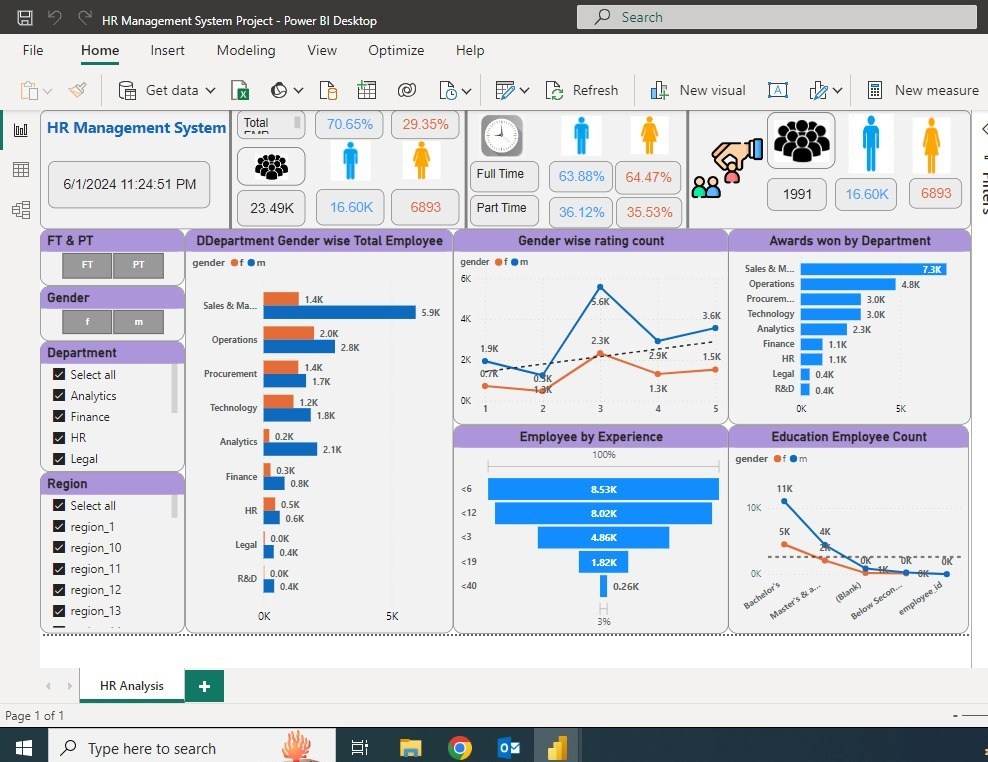

This screenshot's page, from the dashboard's own definition file:
{"tool":"powerbi","page":{"name":"HR Analysis","canvas":[1280,720],"ordinal":0},"visuals":[{"type":"textbox","box":[0,0,1280,163.6],"z":0},{"type":"card","fields":{"Values":["HR Analysis.Cur_DT"]},"box":[11,70.1,222.7,64.6],"z":1000},{"type":"shape","box":[253,0,17.9,163.6],"z":2000},{"type":"textbox","box":[270.7,0,93.6,40.3],"z":3000},{"type":"image","box":[270.7,50.4,93.6,53.3],"z":4000},{"type":"card","fields":{"Values":["CountNonNull(HR Analysis.EMP_ID)"]},"box":[270.7,109.4,93.6,50.4],"z":5000},{"type":"card","fields":{"Values":["HR Analysis.Male %"]},"box":[378.7,0,93.6,40.3],"z":6000},{"type":"card","fields":{"Values":["HR Analysis.Female %"]},"box":[482.4,0,93.6,40.3],"z":7000},{"type":"image","box":[390.2,37.4,72,64.8],"z":8000},{"type":"image","box":[493.9,37.4,61.9,64.8],"z":9000},{"type":"card","fields":{"Values":["CountNonNull(HR Analysis.EMP_ID)"]},"box":[379.1,109,93.9,50.3],"z":10000},{"type":"card","fields":{"Values":["CountNonNull(HR Analysis.EMP_ID)"]},"box":[483.1,109,93.9,50.3],"z":11000},{"type":"shape","box":[577.1,0,16.8,162.7],"z":12000},{"type":"image","box":[586.1,0,100.8,70.6],"z":13000},{"type":"textbox","box":[591.8,70.6,95,43.2],"z":14000},{"type":"textbox","box":[591.8,116.6,95,43.2],"z":15000},{"type":"card","fields":{"Values":["HR Analysis.FT_Male %"]},"box":[699.8,70.6,87.8,43.2],"z":16000},{"type":"card","fields":{"Values":["HR Analysis.PT_Male %"]},"box":[699.8,119.5,87.8,43.2],"z":17000},{"type":"image","box":[806.4,2.9,61.9,64.8],"z":19000},{"type":"card","fields":{"Values":["HR Analysis.FT_Female %"]},"box":[790.6,70.6,90.7,46.1],"z":20000},{"type":"card","fields":{"Values":["HR Analysis.PT_Female %"]},"box":[792,119.5,90.7,43.2],"z":21000},{"type":"shape","box":[882.7,0,15.8,162.7],"z":22000},{"type":"image","box":[891.4,0,108,159.8],"z":23000},{"type":"image","box":[999.4,2.9,93.6,77.8],"z":24000},{"type":"image","box":[1107.2,0,72.1,92.3],"z":25000},{"type":"image","box":[1194.4,5,62.1,87.2],"z":26000},{"type":"card","fields":{"Values":["CountNonNull(HR Analysis.EMP_ID)"]},"box":[999.4,93.6,82.1,44.6],"z":27000},{"type":"card","fields":{"Values":["CountNonNull(HR Analysis.EMP_ID)"]},"box":[1093,93.6,85,44.6],"z":28000},{"type":"card","fields":{"Values":["CountNonNull(HR Analysis.EMP_ID)"]},"box":[1195.2,93.6,73.4,41.8],"z":29000},{"type":"slicer","title":"FT & PT","fields":{"Values":["HR Analysis.FT/PT"]},"box":[0,164.2,198.7,77.8],"z":30000},{"type":"slicer","title":"Gender","fields":{"Values":["HR Analysis.gender"]},"box":[0,241.9,198.7,76.3],"z":31000},{"type":"slicer","title":"Department","fields":{"Values":["HR Analysis.department"]},"box":[0,318.2,198.7,180],"z":32000},{"type":"slicer","title":"Region","fields":{"Values":["HR Analysis.region"]},"box":[0,498.2,198.7,221.8],"z":33000},{"type":"clusteredBarChart","title":"DDepartment Gender wise Total Employee","fields":{"Category":["HR Analysis.department"],"Series":["HR Analysis.gender"],"Y":["CountNonNull(HR Analysis.EMP_ID)"]},"box":[198.7,164.2,368.6,555.8],"z":34000},{"type":"lineChart","title":"Gender wise rating count","fields":{"Category":["HR Analysis.previous_year_rating"],"Y":["CountNonNull(HR Analysis.EMP_ID)"],"Series":["HR Analysis.gender"]},"box":[567.4,164.2,378.7,269.3],"z":35000},{"type":"barChart","title":"Awards won by Department","fields":{"Category":["HR Analysis.department"],"Y":["CountNonNull(HR Analysis.awards_won?)"]},"box":[946.1,164.2,334.1,269.3],"z":36000},{"type":"lineChart","title":"Education Employee Count","fields":{"Category":["HR Analysis.education"],"Y":["CountNonNull(HR Analysis.EMP_ID)"],"Series":["HR Analysis.gender"]},"box":[946.1,433.4,331.2,286.6],"z":37000},{"type":"funnel","title":"Employee by Experience","fields":{"Category":["HR Analysis.Experience"],"Y":["CountNonNull(HR Analysis.EMP_ID)"]},"box":[567.4,433.4,378.7,286.6],"z":38000},{"type":"image","box":[708.5,2.9,72,64.8],"z":38001}]}

Visuals, with their boxes on the page's 1280x720 design canvas (x1, y1, x2, y2). These are canvas units, not pixel positions in the 988x762 screenshot, which may show the page scaled, cropped or inside an application window:
textbox: (0,0,1280,164)
card - HR Analysis.Cur_DT: (11,70,234,135)
shape: (253,0,271,164)
textbox: (271,0,364,40)
image: (271,50,364,104)
card - CountNonNull(HR Analysis.EMP_ID): (271,109,364,160)
card - HR Analysis.Male %: (379,0,472,40)
card - HR Analysis.Female %: (482,0,576,40)
image: (390,37,462,102)
image: (494,37,556,102)
card - CountNonNull(HR Analysis.EMP_ID): (379,109,473,159)
card - CountNonNull(HR Analysis.EMP_ID): (483,109,577,159)
shape: (577,0,594,163)
image: (586,0,687,71)
textbox: (592,71,687,114)
textbox: (592,117,687,160)
card - HR Analysis.FT_Male %: (700,71,788,114)
card - HR Analysis.PT_Male %: (700,120,788,163)
image: (806,3,868,68)
card - HR Analysis.FT_Female %: (791,71,881,117)
card - HR Analysis.PT_Female %: (792,120,883,163)
shape: (883,0,898,163)
image: (891,0,999,160)
image: (999,3,1093,81)
image: (1107,0,1179,92)
image: (1194,5,1256,92)
card - CountNonNull(HR Analysis.EMP_ID): (999,94,1082,138)
card - CountNonNull(HR Analysis.EMP_ID): (1093,94,1178,138)
card - CountNonNull(HR Analysis.EMP_ID): (1195,94,1269,135)
"FT & PT" slicer: (0,164,199,242)
"Gender" slicer: (0,242,199,318)
"Department" slicer: (0,318,199,498)
"Region" slicer: (0,498,199,720)
"DDepartment Gender wise Total Employee" clusteredBarChart: (199,164,567,720)
"Gender wise rating count" lineChart: (567,164,946,434)
"Awards won by Department" barChart: (946,164,1280,434)
"Education Employee Count" lineChart: (946,433,1277,720)
"Employee by Experience" funnel: (567,433,946,720)
image: (708,3,780,68)
